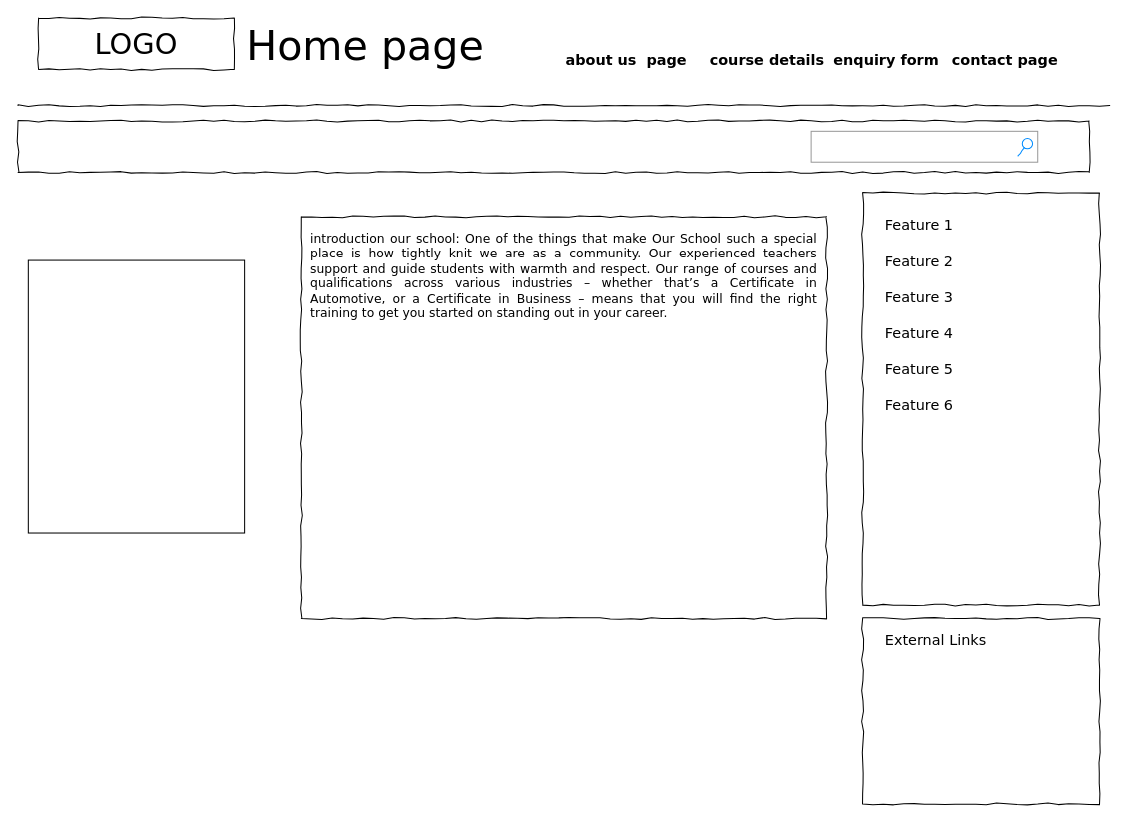
Image size: 1128x822. Some labels were removed from this diagram. Here are the shapes that lost their labels. From the top down, the box of each, then its label:
(810, 130, 1038, 162): Search
(27, 259, 245, 533): photo
